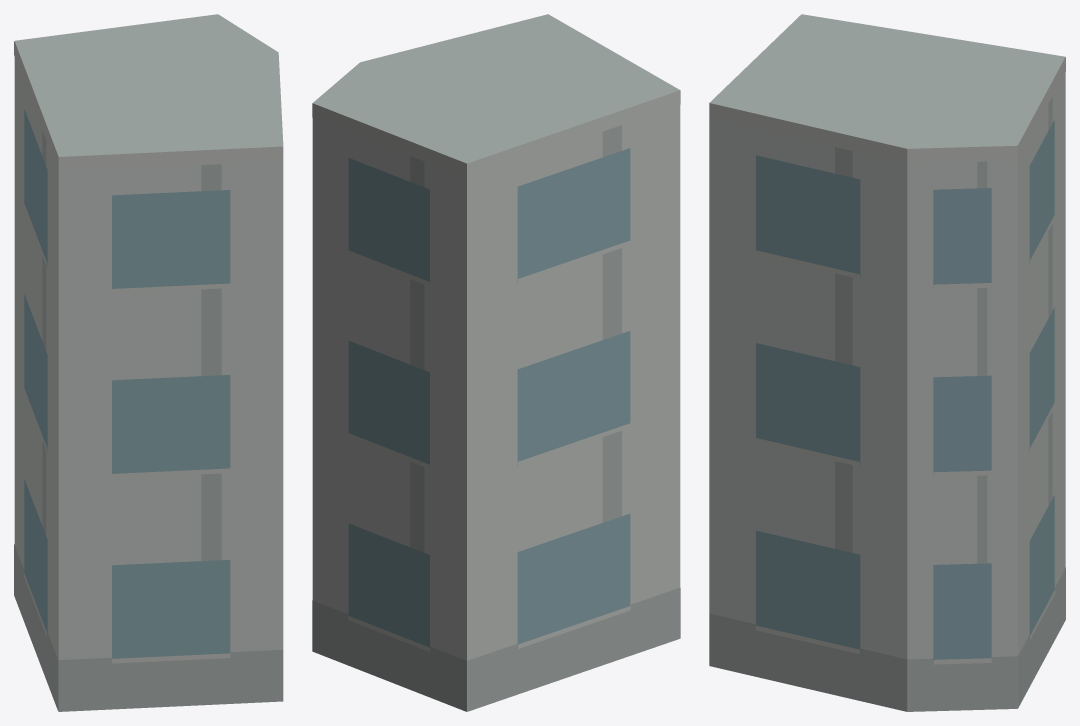
File: survey-upis-32870120.glb
3 renders of one model, left to right at view 1: azimuth 30°, elevation 25°; view 2: azimuth 150°, elevation 25°; view 3: azimuth 270°, elevation 25°, orthographic. The views are drawn at different scales.
Parts seen in each view (by area): view 1: survey-upis-32870120.tmp; view 2: survey-upis-32870120.tmp; view 3: survey-upis-32870120.tmp.
Part boxes in pixels (<box>): survey-upis-32870120.tmp: <box>14,14,283,711</box>; survey-upis-32870120.tmp: <box>312,14,680,711</box>; survey-upis-32870120.tmp: <box>709,14,1065,711</box>.
Size of the model in its own units: 4.71 by 9.15 by 5.26.
